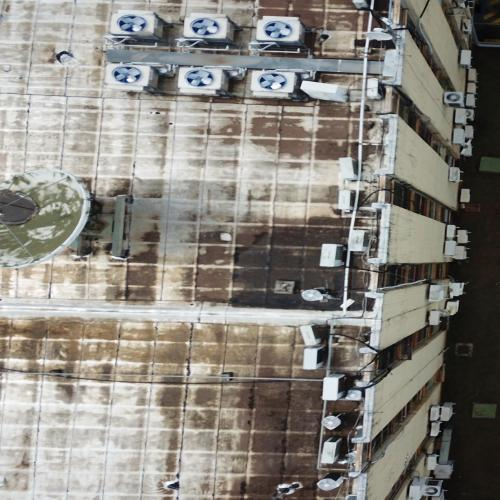conde: (105, 10, 169, 42), (181, 14, 241, 47), (176, 67, 234, 99), (104, 64, 164, 94), (255, 16, 310, 48), (249, 70, 301, 101), (301, 81, 353, 104), (316, 243, 347, 272), (321, 373, 349, 404), (319, 438, 346, 466), (297, 324, 327, 348), (350, 230, 377, 256), (302, 346, 328, 372), (337, 156, 362, 182), (365, 77, 389, 104), (334, 188, 359, 213), (320, 413, 352, 432), (316, 473, 347, 492), (300, 285, 332, 303), (347, 390, 366, 404), (352, 1, 371, 12)
